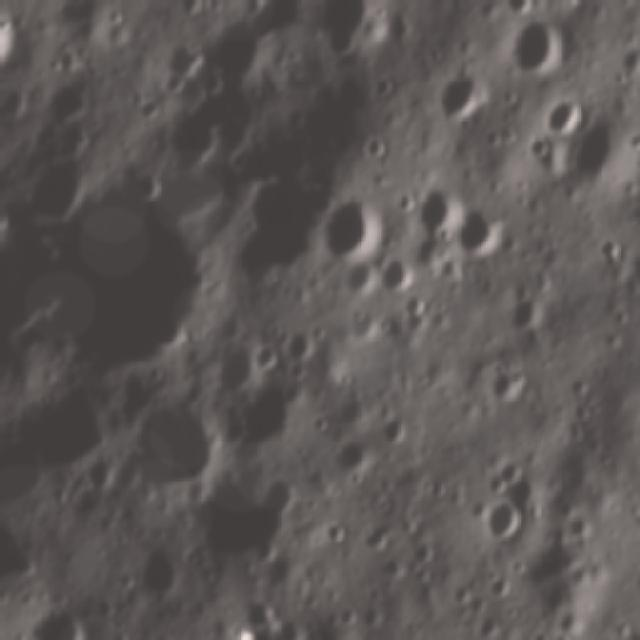crater: (37, 175, 223, 376), (117, 393, 231, 509), (188, 471, 298, 578), (314, 182, 391, 270), (502, 10, 572, 79), (314, 0, 392, 60), (407, 164, 464, 241), (452, 200, 516, 262), (428, 62, 490, 123), (477, 496, 532, 552), (134, 545, 180, 604), (539, 86, 590, 137), (486, 446, 534, 494), (502, 287, 549, 336), (0, 0, 29, 74), (482, 362, 524, 409), (376, 252, 413, 303), (284, 322, 322, 371), (394, 287, 431, 324), (231, 0, 283, 18), (0, 191, 12, 254)
